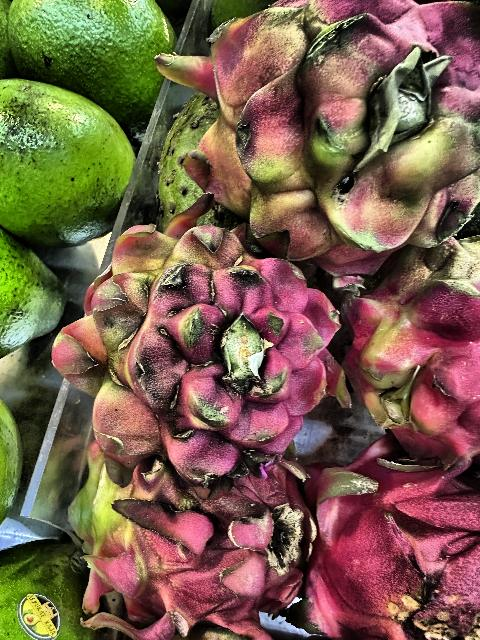buah-naga-belum-matang: (150, 6, 480, 264), (53, 212, 347, 480), (68, 444, 312, 640), (350, 231, 480, 485)
buah-naga-matang: (304, 450, 480, 640)
